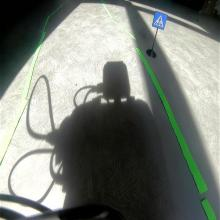crosswalk: (152, 11, 168, 31)
